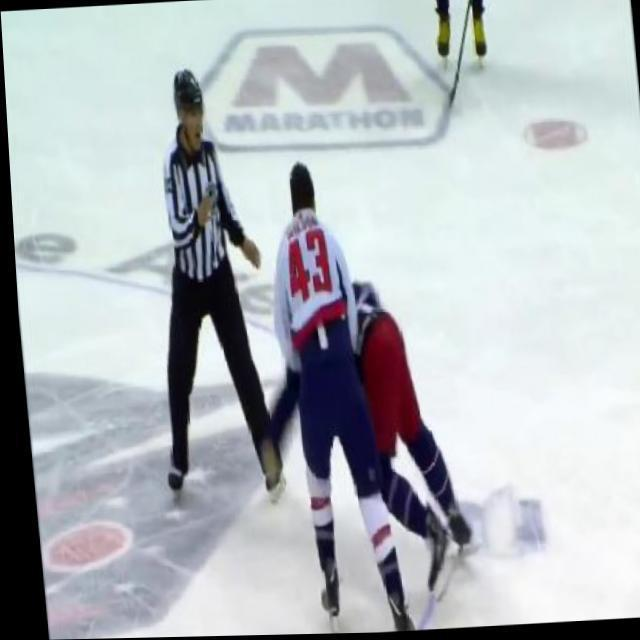fight: (247, 164, 467, 636)
non-fight: (102, 50, 278, 541)
